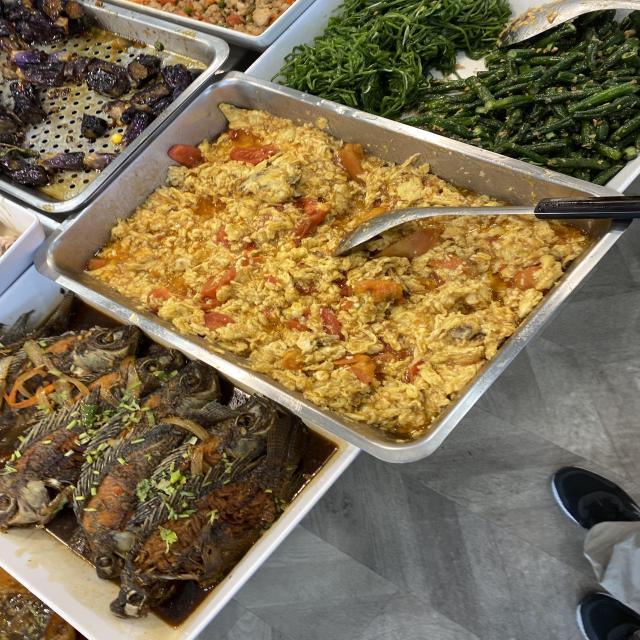Scramble Egg with Tomatoes: (168, 179, 332, 321)
